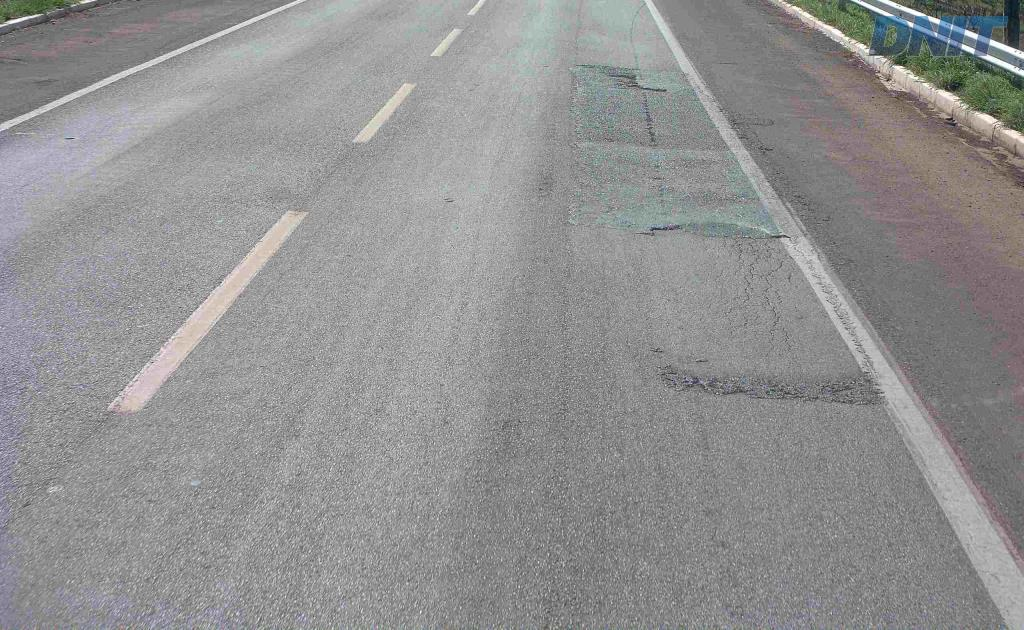pothole: (640, 217, 704, 237), (609, 85, 671, 92), (603, 71, 638, 80)
